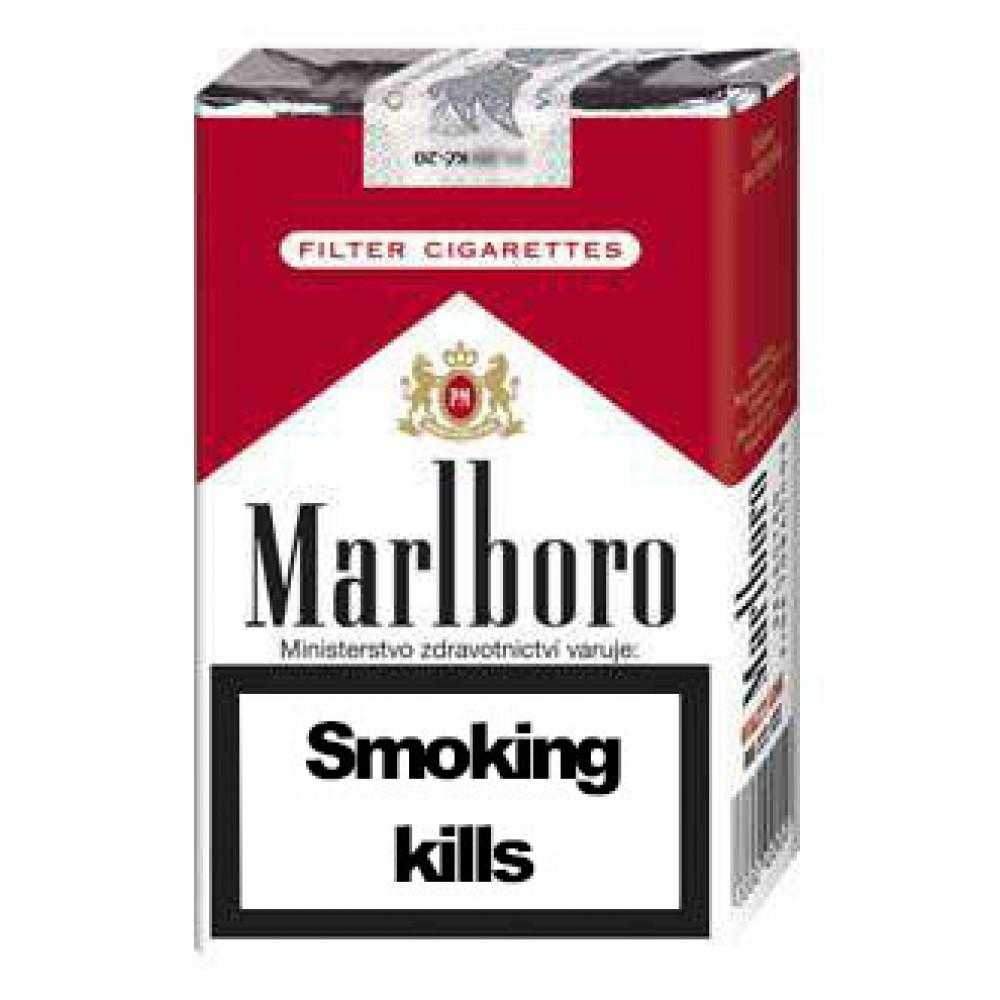marlboro_red: (204, 109, 707, 940)
